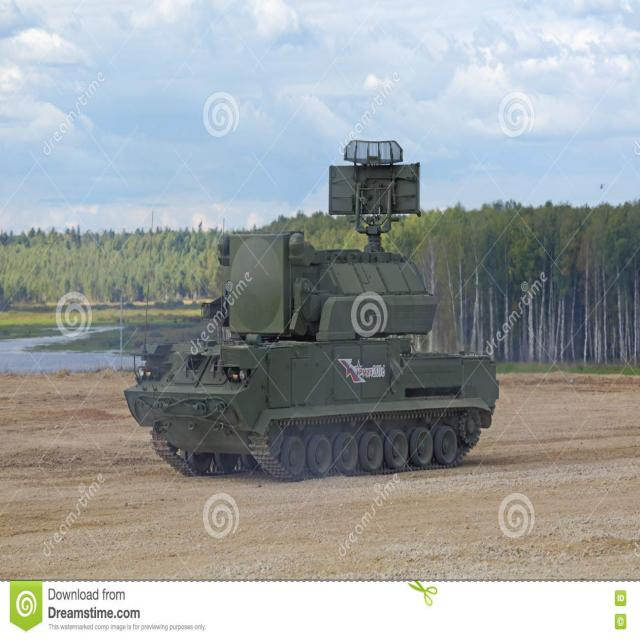MIL_EW_RDR: (128, 144, 499, 482)
